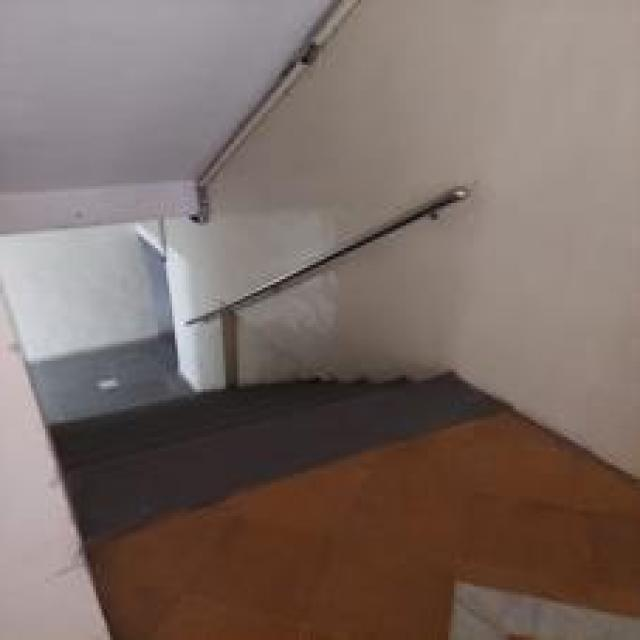downstair: (57, 354, 376, 492)
